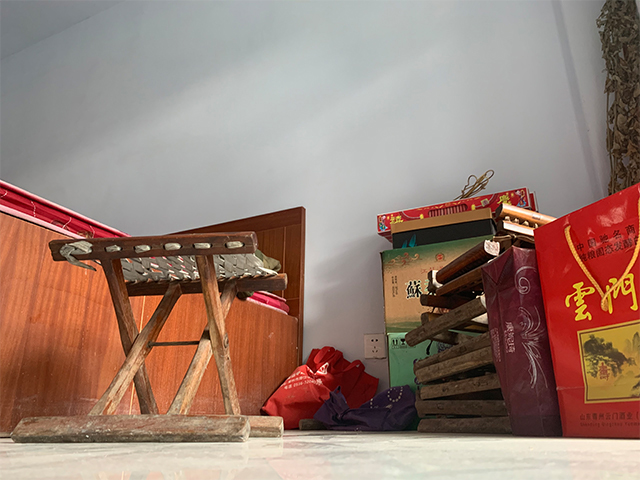bed: (1, 180, 307, 439)
stool: (8, 230, 285, 444), (404, 203, 560, 434)
